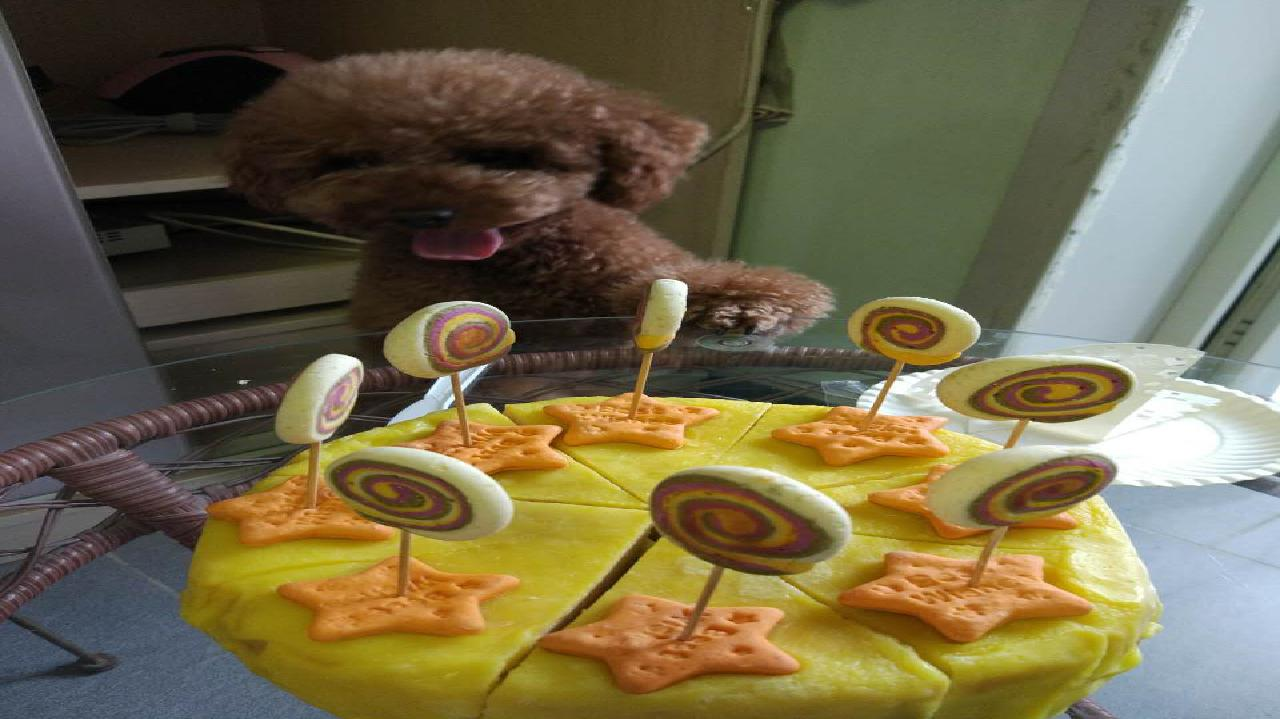zhuangzhuang: (199, 25, 836, 346)
